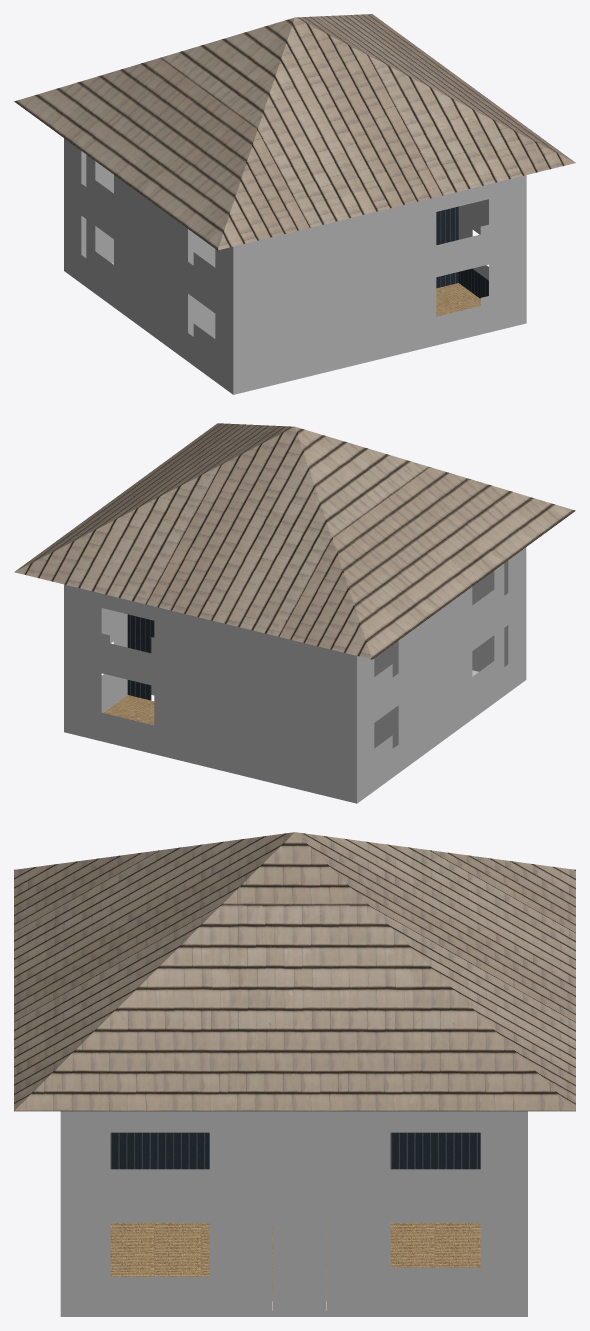
File: House1.fbx
3 renders of one model, top to bottom at view 1: azimuth 30°, elevation 25°; view 2: azimuth 150°, elevation 25°; view 3: azimuth 270°, elevation 25°, orthographic. The views are drawn at different scales.
Parts seen in each view (by area): view 1: Cube; view 2: Cube; view 3: Cube.
Boxes of the visible parts, left/top/right/bottom form: Cube: left=14, top=14, right=575, bottom=394; Cube: left=14, top=423, right=575, bottom=803; Cube: left=14, top=832, right=575, bottom=1316.
Size of the model in its own units: 1711 by 1276 by 1684.
